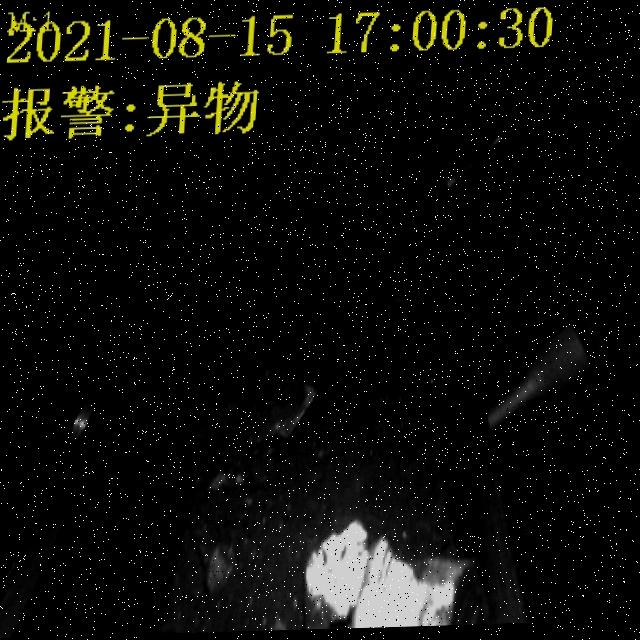large_sized_coal: (351, 539, 486, 631), (316, 524, 381, 632), (245, 384, 332, 460), (205, 545, 242, 593)
